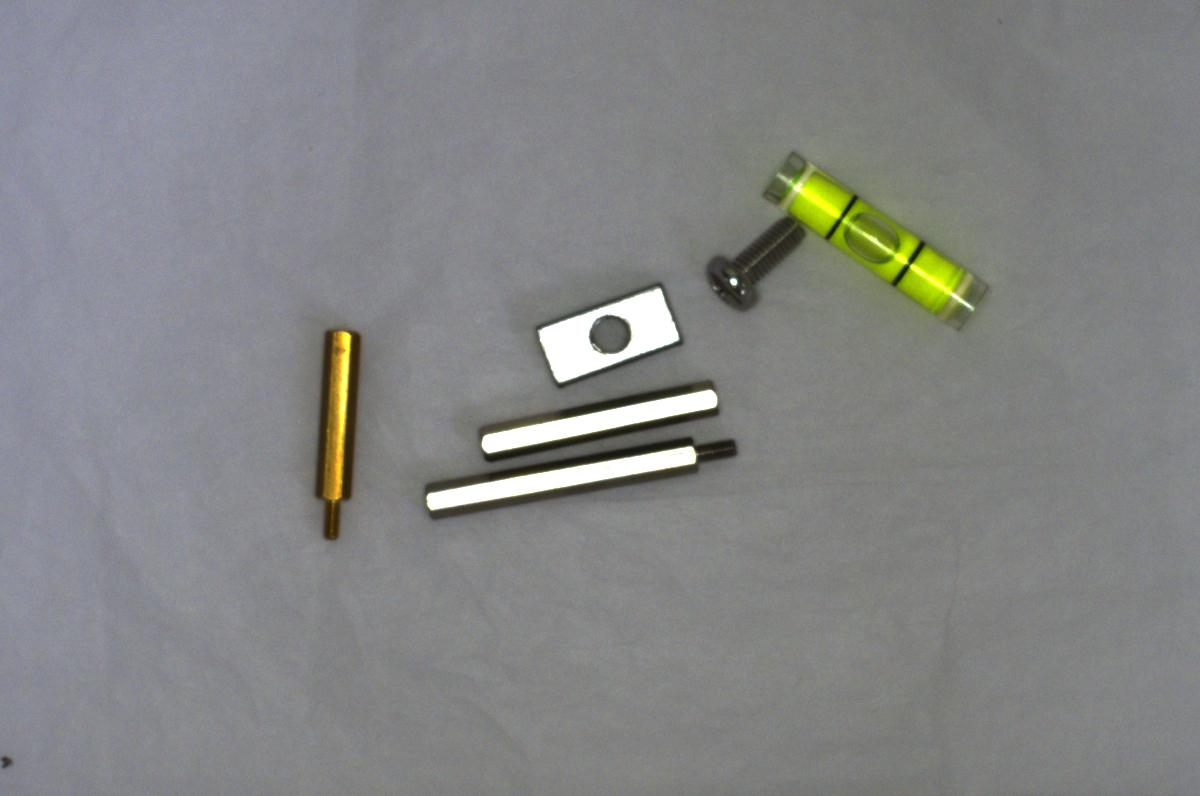Double hexagonal column: (479, 379, 738, 460)
Hexagon pillar: (308, 315, 361, 538)
Hexagonal steel column: (418, 435, 734, 522)
Horizontal bubble: (760, 149, 995, 326)
Rectangular nut: (524, 275, 692, 388)
Round head screw: (694, 215, 804, 310)
